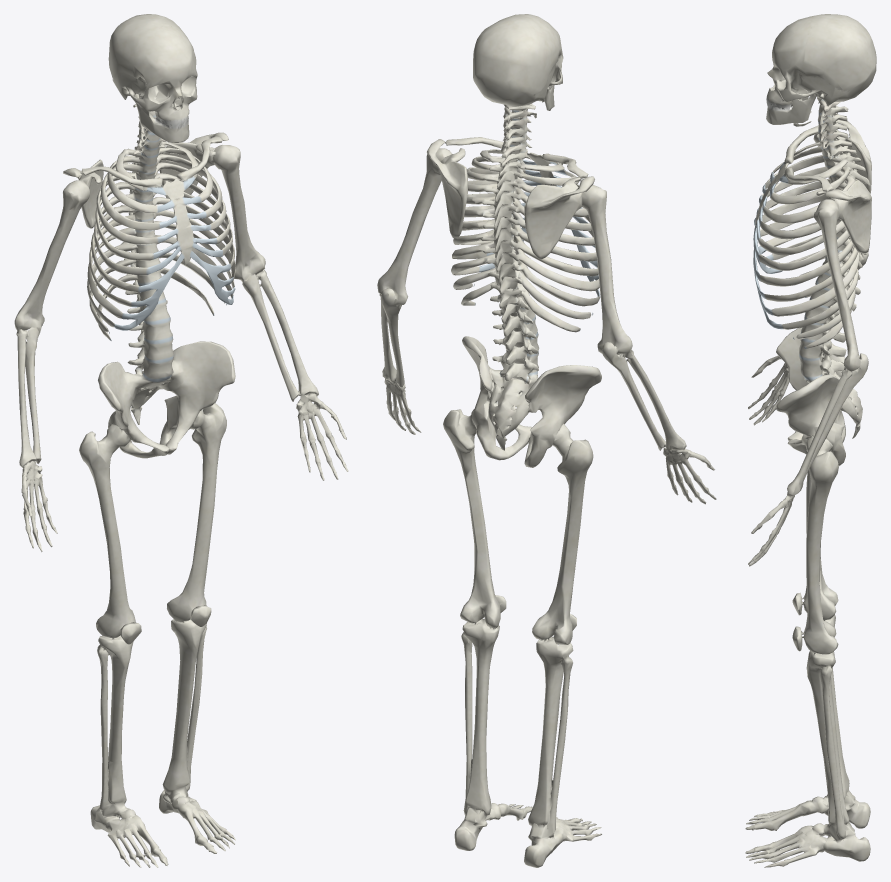
File: skeletal_system.glb
The picture shows the model from 3 angles, left to right: view 1: azimuth 30°, elevation 25°; view 2: azimuth 150°, elevation 25°; view 3: azimuth 270°, elevation 25°; orthographic projection.
Visible parts, largest first — view 1: Leg_Bones, Rib_Cage, Hand_Bones, Skull, excess, Spine; view 2: Leg_Bones, Rib_Cage, Hand_Bones, excess, Spine, Skull; view 3: Leg_Bones, Rib_Cage, Skull, excess, Hand_Bones, Spine.
Boxes of the visible parts, x1=… form: Leg_Bones: x1=79, y1=403, x2=235, y2=867; Rib_Cage: x1=81, y1=136, x2=235, y2=340; Hand_Bones: x1=14, y1=145, x2=348, y2=551; Skull: x1=108, y1=14, x2=197, y2=142; excess: x1=63, y1=132, x2=235, y2=458; Spine: x1=111, y1=111, x2=184, y2=399; Leg_Bones: x1=443, y1=409, x2=601, y2=867; Rib_Cage: x1=443, y1=137, x2=600, y2=332; Hand_Bones: x1=377, y1=148, x2=716, y2=504; excess: x1=426, y1=119, x2=601, y2=467; Spine: x1=474, y1=109, x2=550, y2=382; Skull: x1=473, y1=14, x2=563, y2=121; Leg_Bones: x1=745, y1=435, x2=870, y2=867; Rib_Cage: x1=753, y1=125, x2=871, y2=348; Skull: x1=766, y1=14, x2=876, y2=124; excess: x1=776, y1=110, x2=871, y2=465; Hand_Bones: x1=748, y1=133, x2=868, y2=566; Spine: x1=793, y1=105, x2=870, y2=383.
Bounding box in the file's own units: 0.7281 × 1.78 × 0.2566.
Materials: 1 (1 with a texture image).
